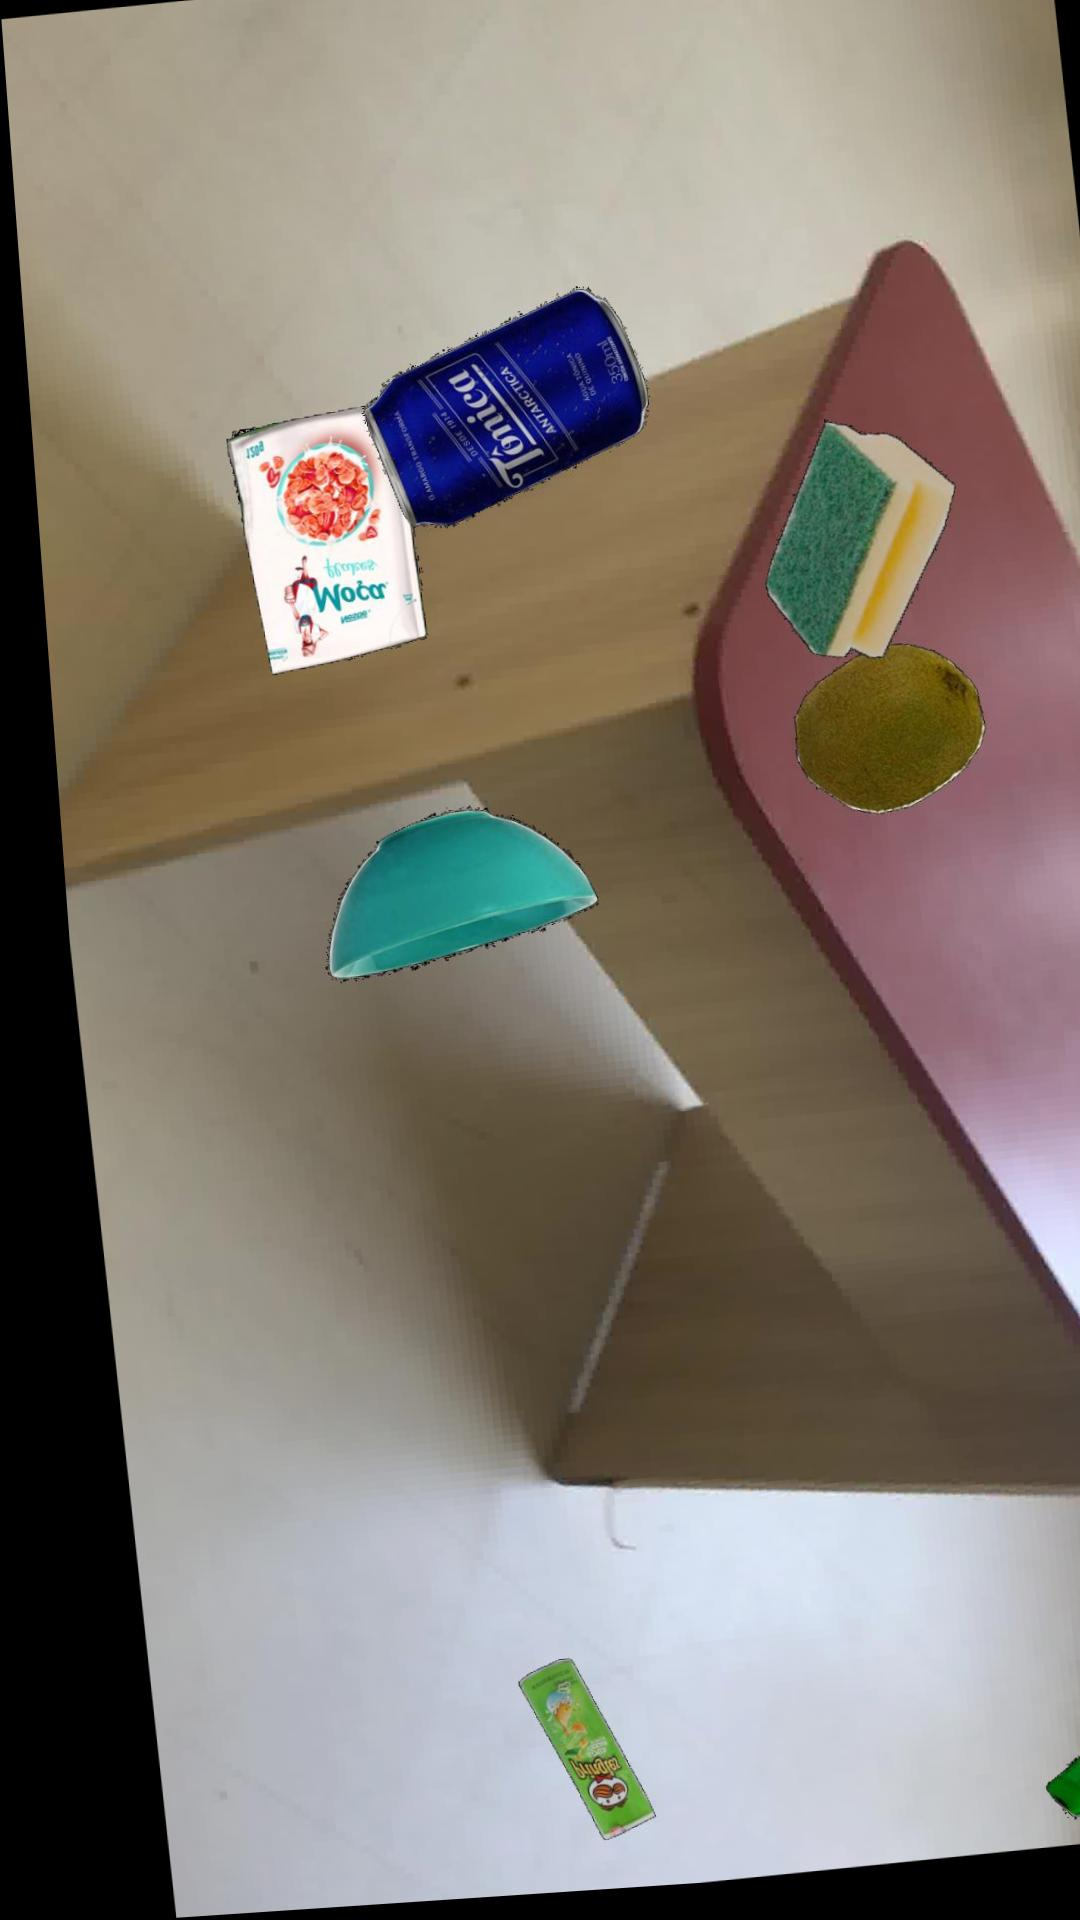bowl: (310, 815, 582, 984)
cleaner: (1014, 1745, 1080, 1833)
corn flakes: (218, 410, 414, 679)
kiwi: (779, 657, 971, 827)
pringles: (489, 1665, 624, 1847)
sponge: (753, 431, 944, 670)
tonic: (353, 297, 640, 534)
